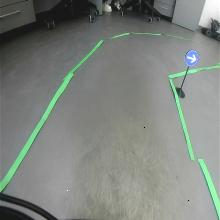right: (184, 49, 199, 67)
